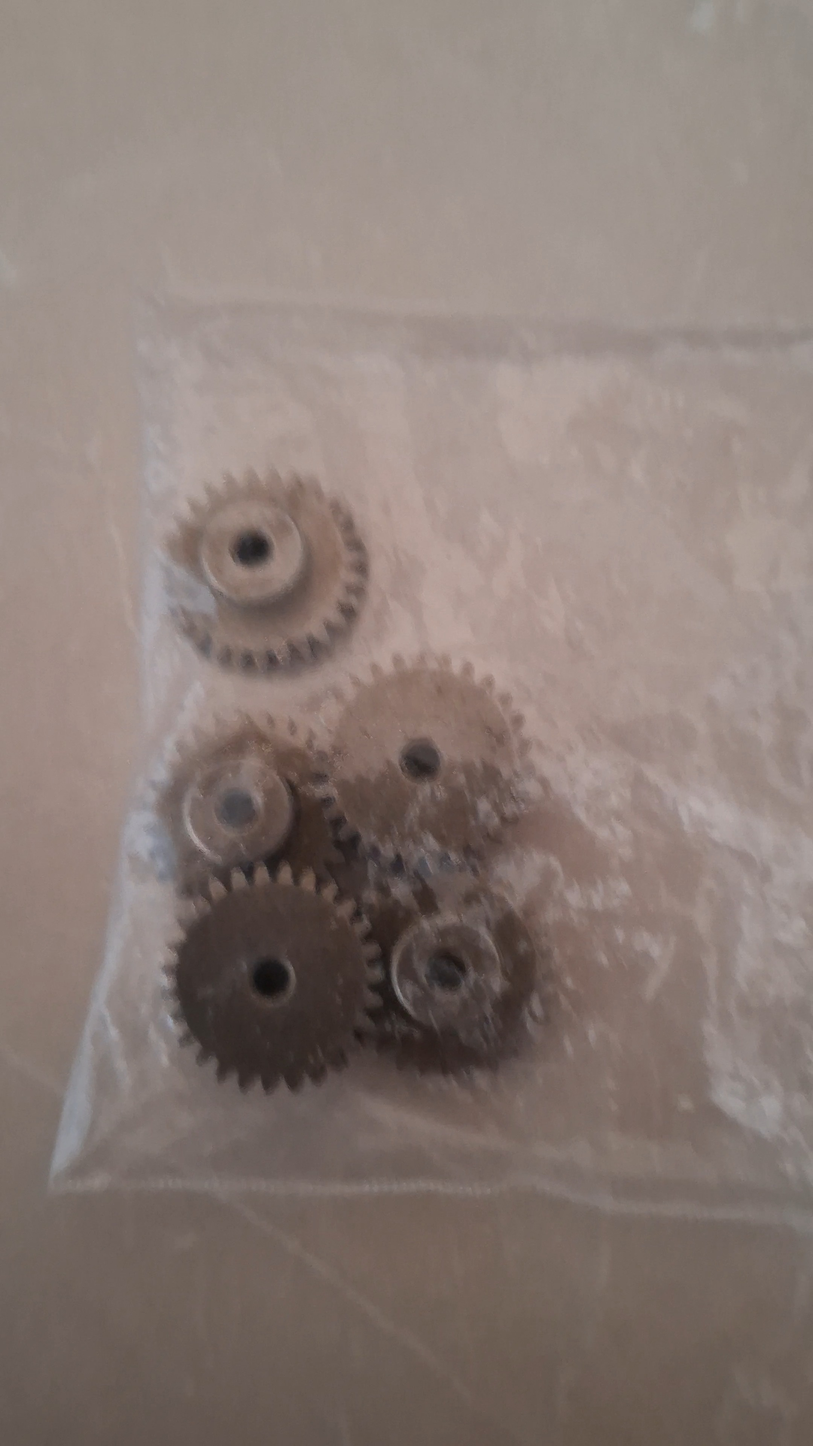spur gear: (166, 864, 381, 1090), (323, 656, 529, 860), (166, 472, 367, 671), (364, 874, 536, 1073), (155, 718, 341, 892)
